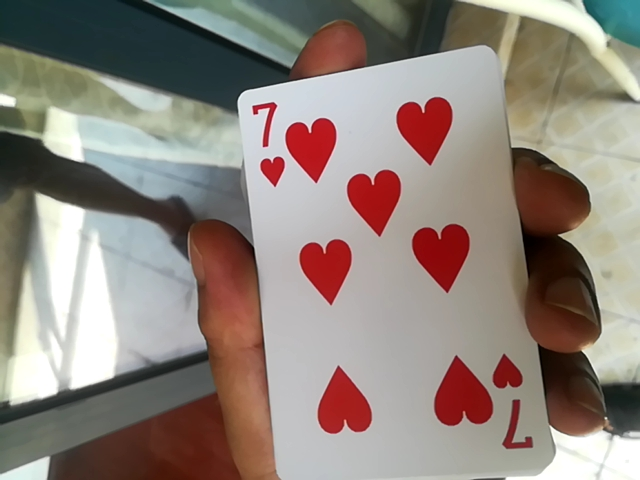hx 7: (231, 55, 571, 470)
